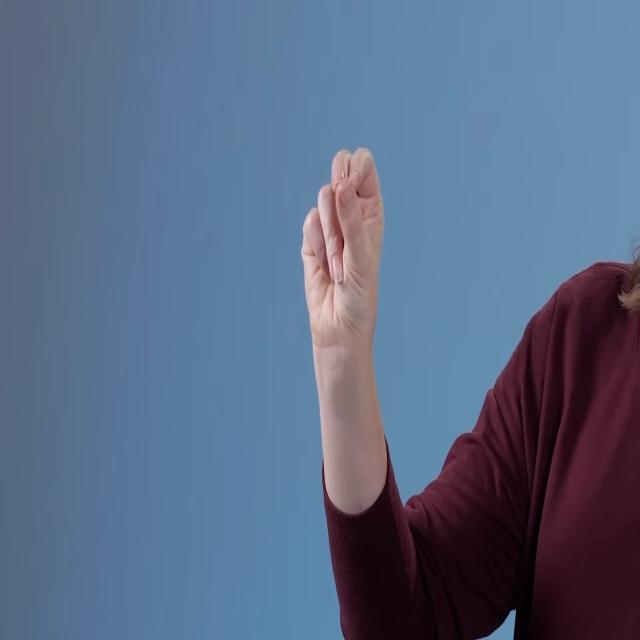no: (282, 97, 396, 426)
